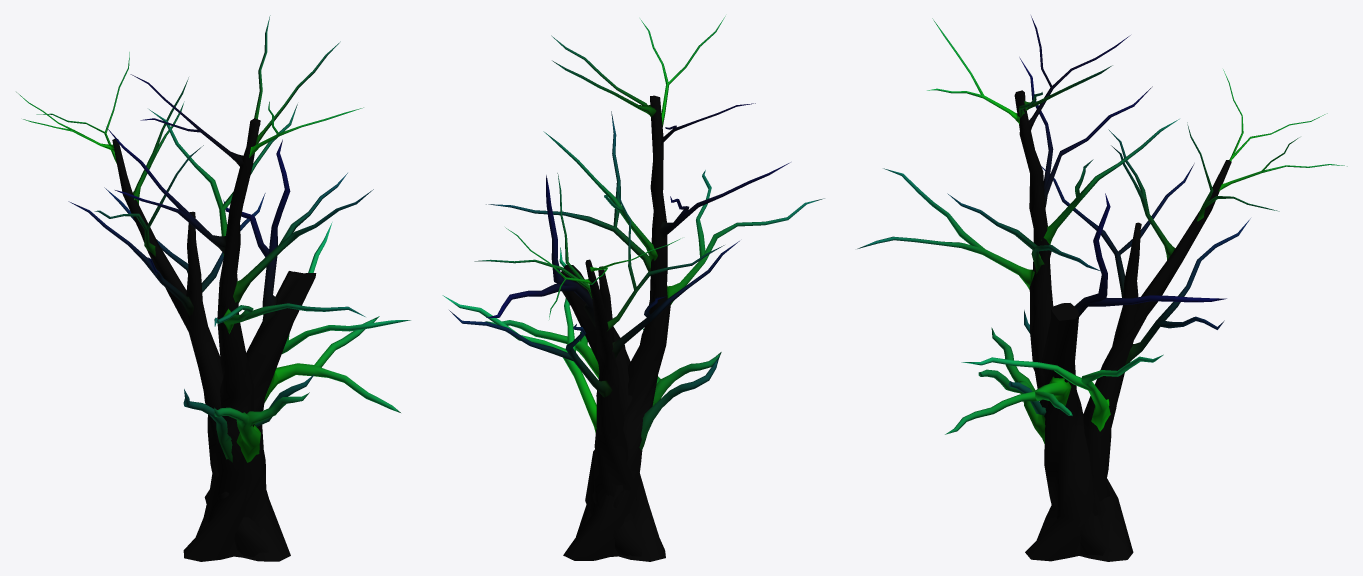
Rendered from OldTree02Collider.fbx.
The picture shows the model from 3 angles, left to right: view 1: azimuth 30°, elevation 25°; view 2: azimuth 150°, elevation 25°; view 3: azimuth 270°, elevation 25°; orthographic projection. The views are drawn at different scales.
Parts seen in each view (by area): view 1: OldTree02Collider; view 2: OldTree02Collider; view 3: OldTree02Collider.
Part boxes in pixels (bbox=[...]): OldTree02Collider: bbox=[16, 15, 410, 561]; OldTree02Collider: bbox=[442, 16, 824, 561]; OldTree02Collider: bbox=[857, 16, 1347, 561].
Bounding box in the file's own units: 435 × 720 × 634.
